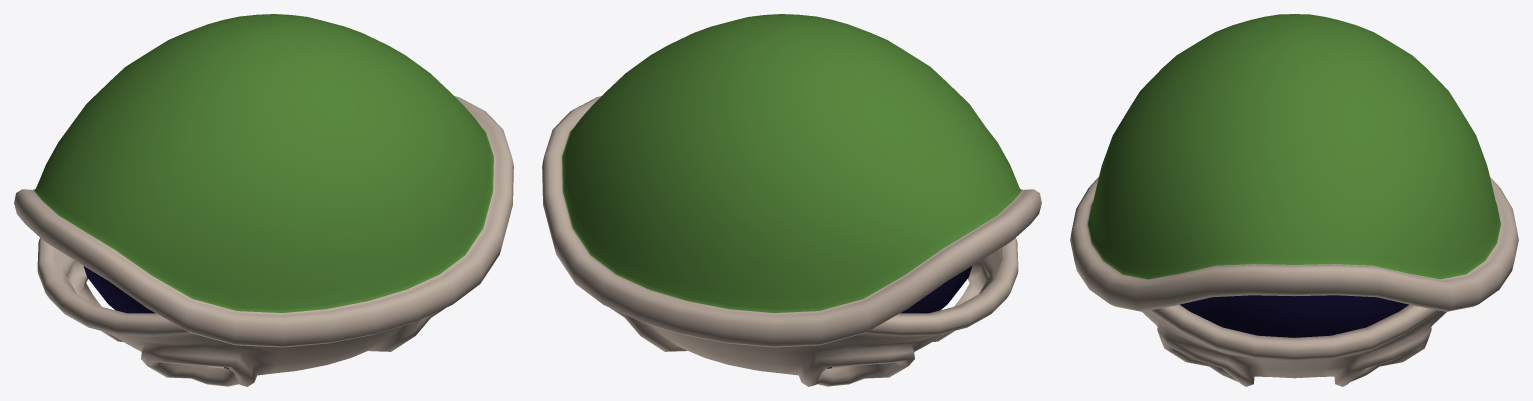
The model's file is shell_v4.glb.
3 views of the same model, side by side, from view 1: azimuth 30°, elevation 25°; view 2: azimuth 150°, elevation 25°; view 3: azimuth 270°, elevation 25° (orthographic).
Parts seen in each view (by area): view 1: Skal, SkalUnder, Mörker; view 2: Skal, SkalUnder, Mörker; view 3: Skal, SkalUnder, Mörker.
Boxes of the visible parts, left/top/right/bottom form: Skal: left=14, top=14, right=513, bottom=347; SkalUnder: left=37, top=238, right=445, bottom=386; Mörker: left=83, top=266, right=228, bottom=368; Skal: left=542, top=14, right=1041, bottom=347; SkalUnder: left=610, top=238, right=1018, bottom=386; Mörker: left=827, top=266, right=972, bottom=368; Skal: left=1070, top=14, right=1518, bottom=311; SkalUnder: left=1142, top=304, right=1446, bottom=386; Mörker: left=1180, top=295, right=1408, bottom=337.
Bounding box in the file's own units: 1.11 × 0.7619 × 0.9786.
